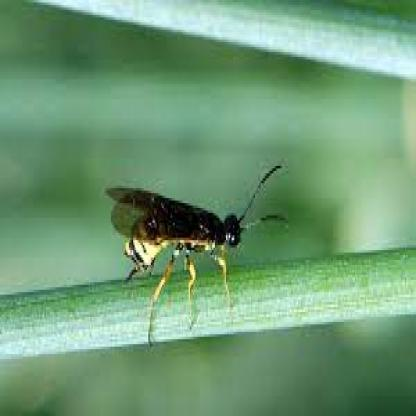sawfly: (102, 163, 290, 343)
